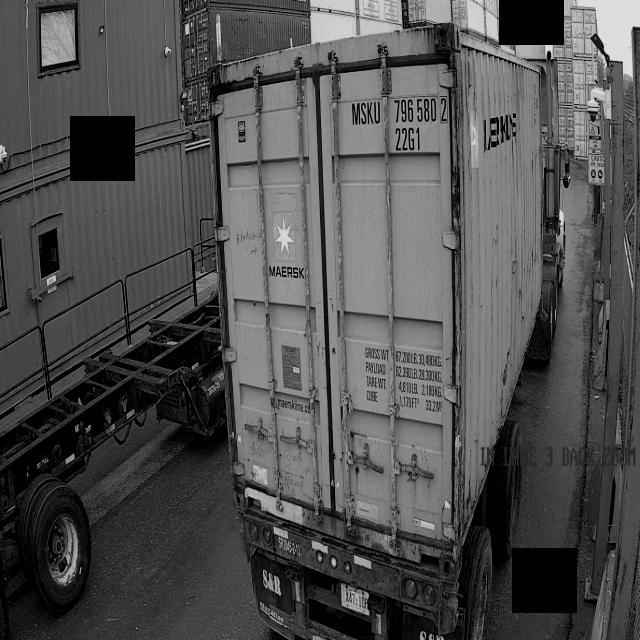container_company_logo: (270, 207, 307, 281)
container_number: (350, 89, 448, 152)
license_plate: (342, 584, 371, 615)
other_container_info: (370, 330, 456, 405)
truck_trailer: (0, 278, 238, 610)
truck_with_container: (224, 26, 571, 640)
